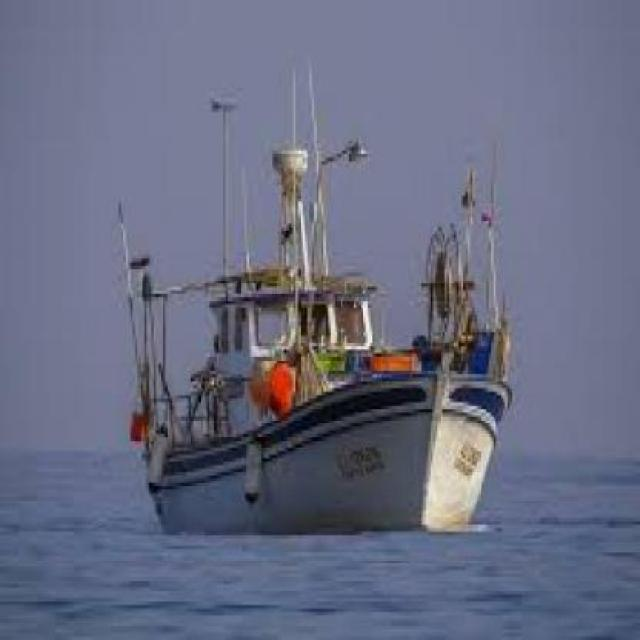fish-b: (103, 40, 525, 554)
